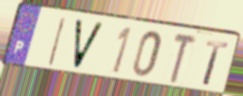0: (130, 29, 163, 80)
1: (112, 27, 133, 76)
I: (45, 16, 68, 68)
T: (169, 31, 199, 86), (200, 39, 231, 87)
V: (72, 17, 106, 72)
